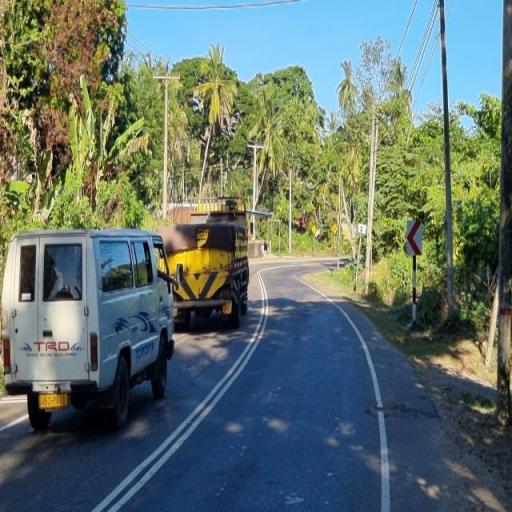double_white_line: (87, 269, 270, 512)
